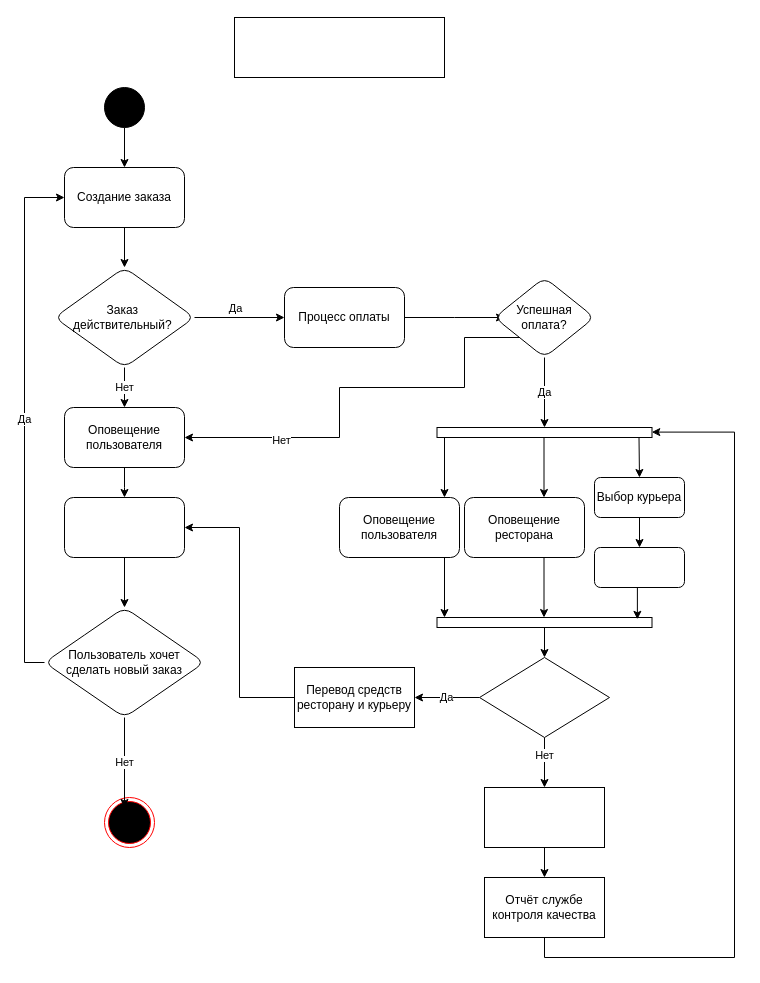
Image size: 760x983. Some labels were removed from this diagram. Here are the shapes that lost their labels. From the top down, the box of each, then its label:
(234, 16, 444, 78): Диаграмма деятельности
(64, 496, 184, 558): Закрытие заказа
(594, 546, 684, 588): Оповещение курьера
(478, 656, 610, 738): Заказ доставлен?
(484, 786, 604, 848): Извинения перед пользователем
